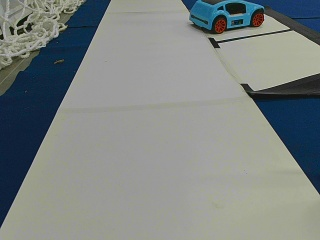car: (189, 1, 266, 33)
